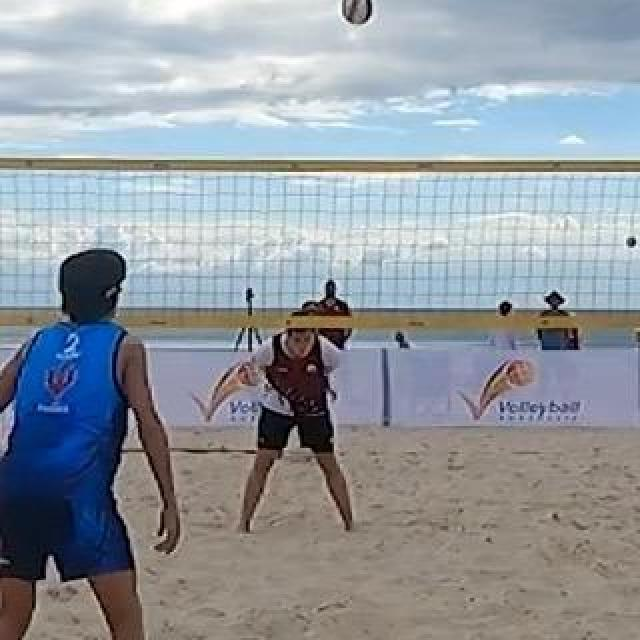volleyball: (342, 0, 376, 24)
